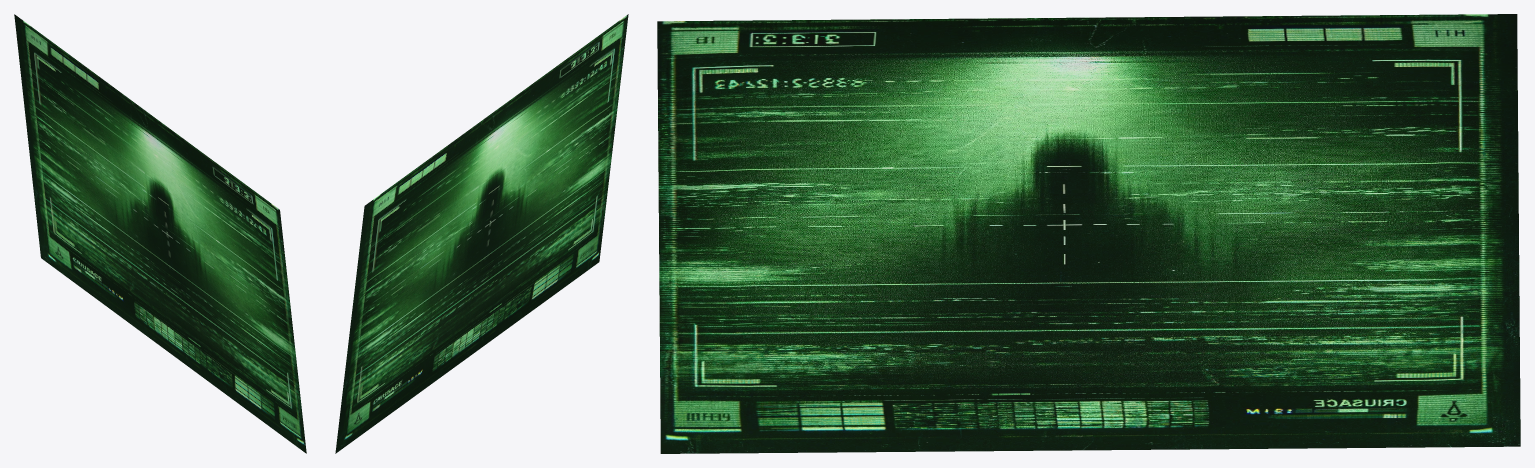
File: stage1-time-screen.glb
3 renders of one model, left to right at view 1: azimuth 30°, elevation 25°; view 2: azimuth 150°, elevation 25°; view 3: azimuth 270°, elevation 25°, orthographic. The views are drawn at different scales.
Visible parts, largest first — view 1: Object_150; view 2: Object_150; view 3: Object_150.
Part boxes in pixels (left/top/right/bottom): Object_150: left=14, top=14, right=306, bottom=453; Object_150: left=335, top=14, right=628, bottom=453; Object_150: left=657, top=14, right=1520, bottom=453.
Bounding box in the file's own units: 0.1026 × 0.835 × 1.57.
Materials: 1 (1 with a texture image).
